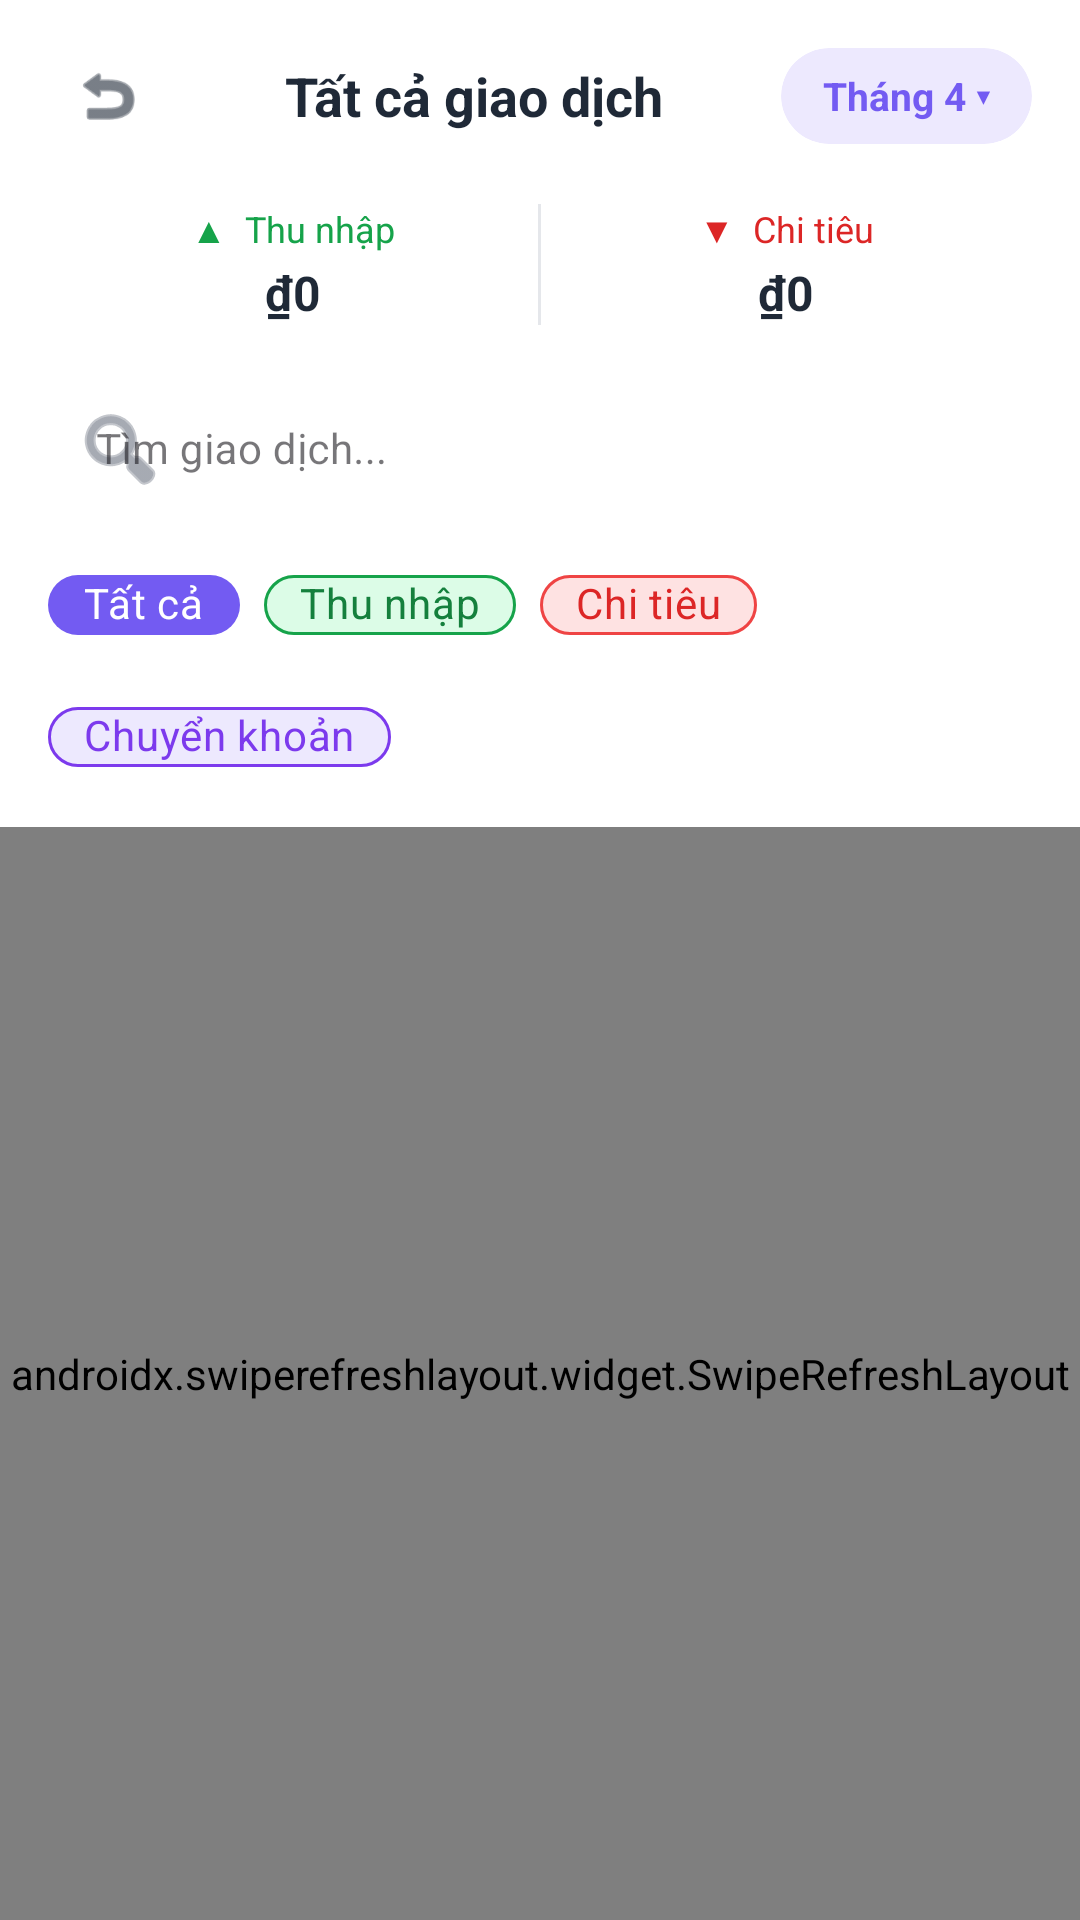

Icons on this 1080 × 1920 Android screen, each with its box as (left=x1, top=y1, right=x2, bottom=y2):
revert: (left=83, top=73, right=135, bottom=120)
